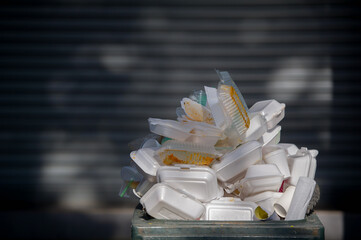styrofoam: (140, 184, 205, 223), (249, 98, 288, 127), (246, 162, 284, 189)
